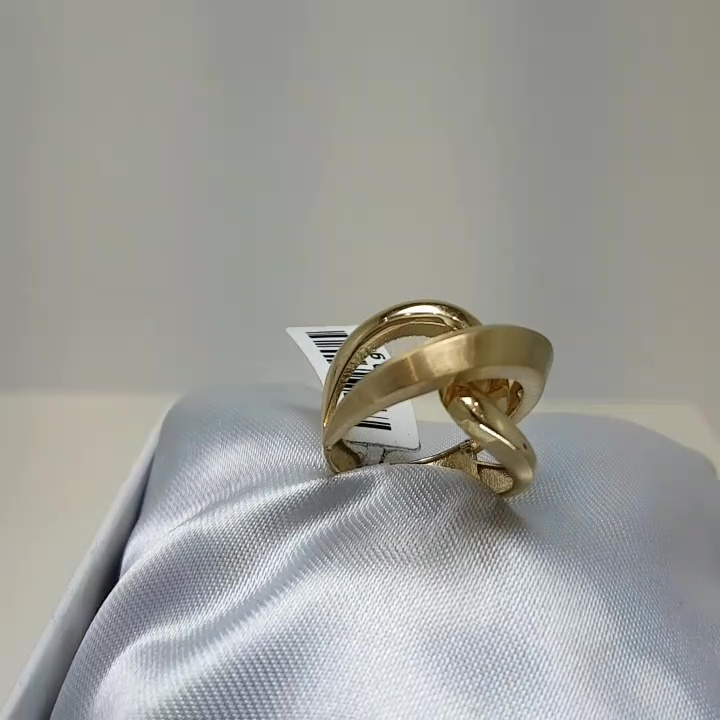Ring 3: (272, 282, 571, 527)
